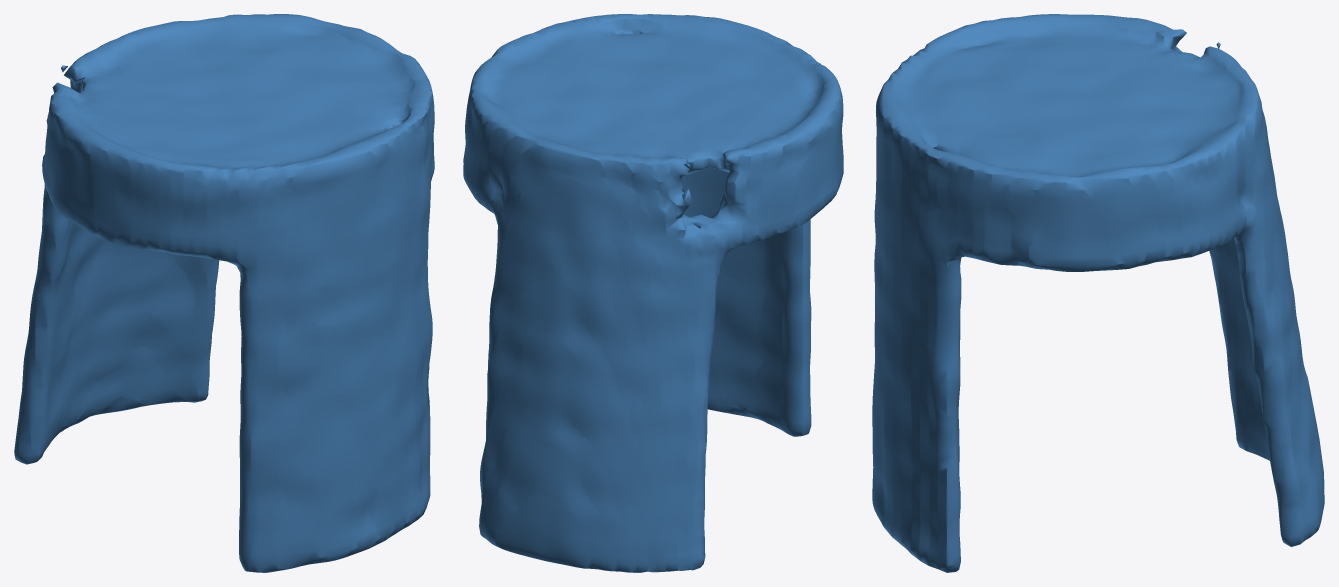
File: nightstand_8_3.obj
The picture shows the model from 3 angles, left to right: view 1: azimuth 30°, elevation 25°; view 2: azimuth 150°, elevation 25°; view 3: azimuth 270°, elevation 25°; orthographic projection. The views are drawn at different scales.
Bounding box in the file's own units: 0.7059 × 0.8015 × 0.7806.
